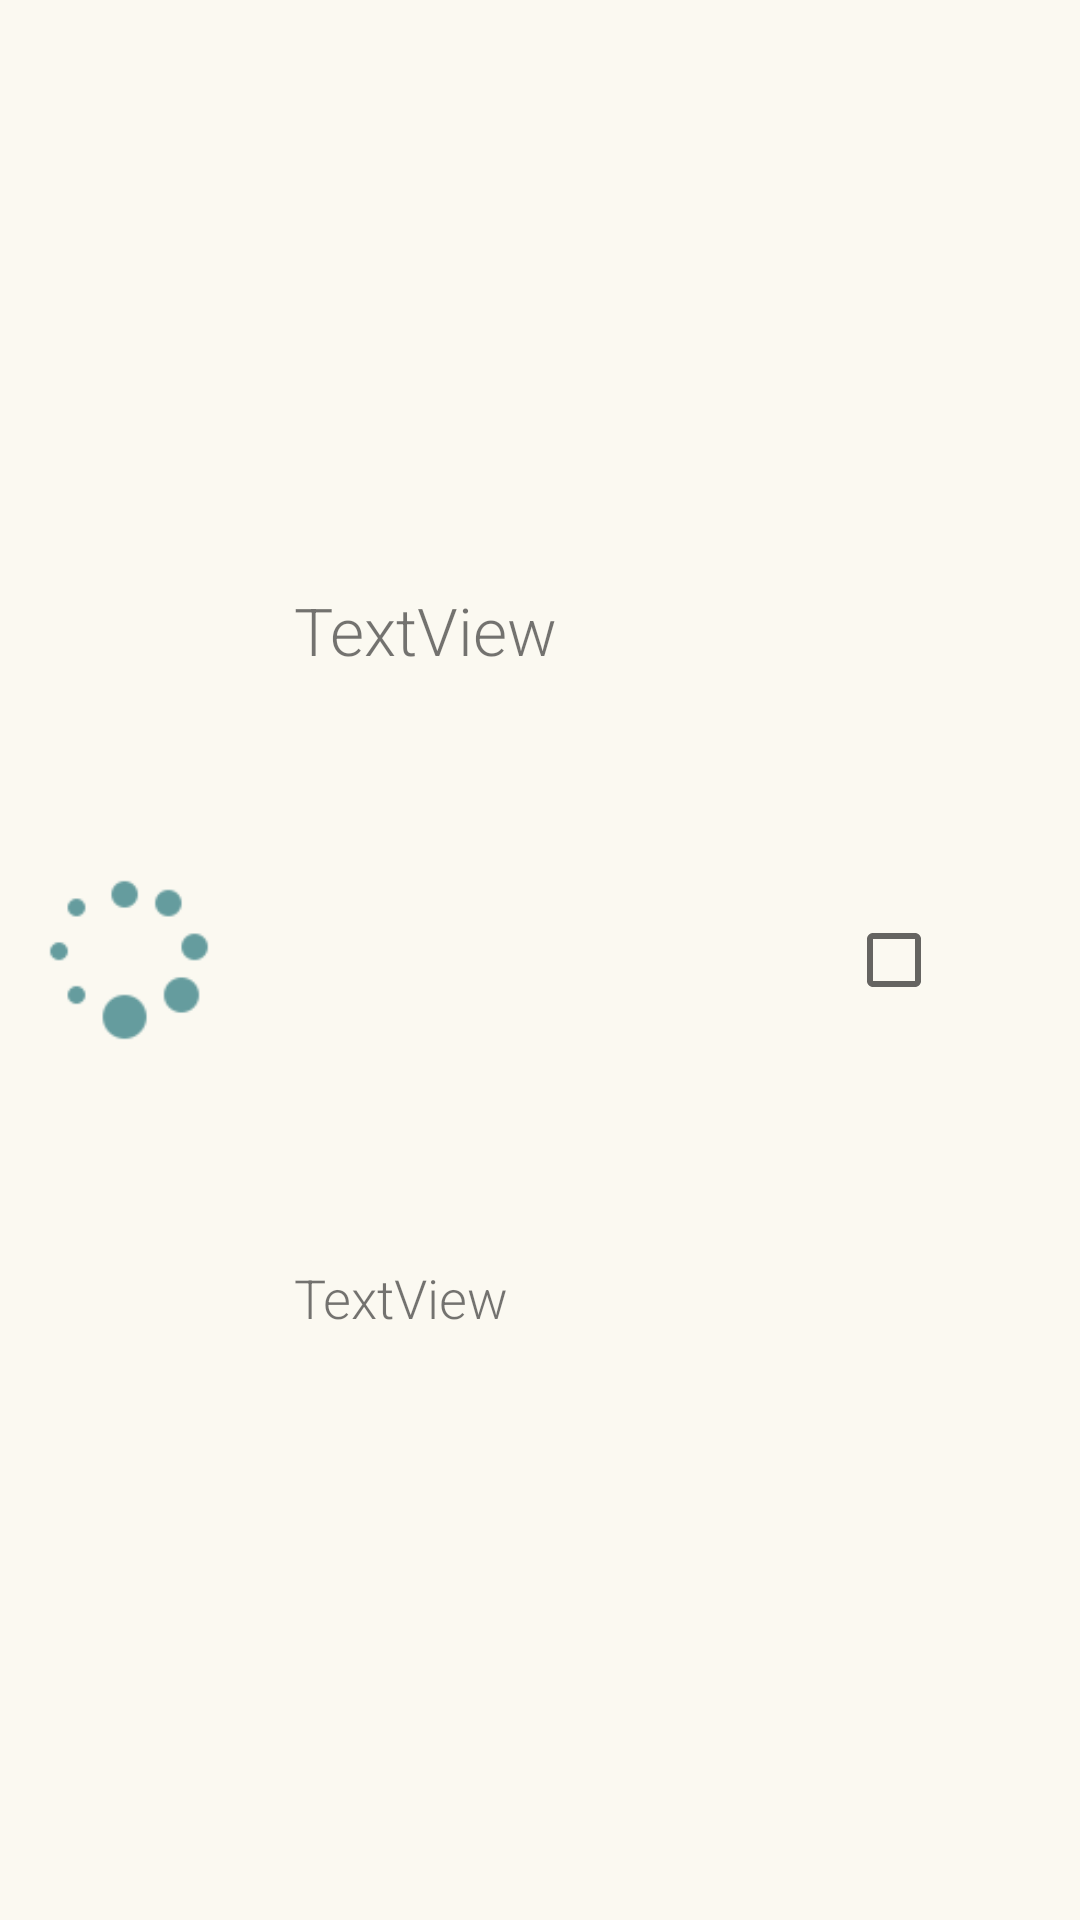

Icon bounding boxes for this 1080 x 1920 phone screenshot, format [x1=x1, y1=y1, x2=x2, y2=y2]:
loading: [x1=50, y1=881, x2=208, y2=1039]
